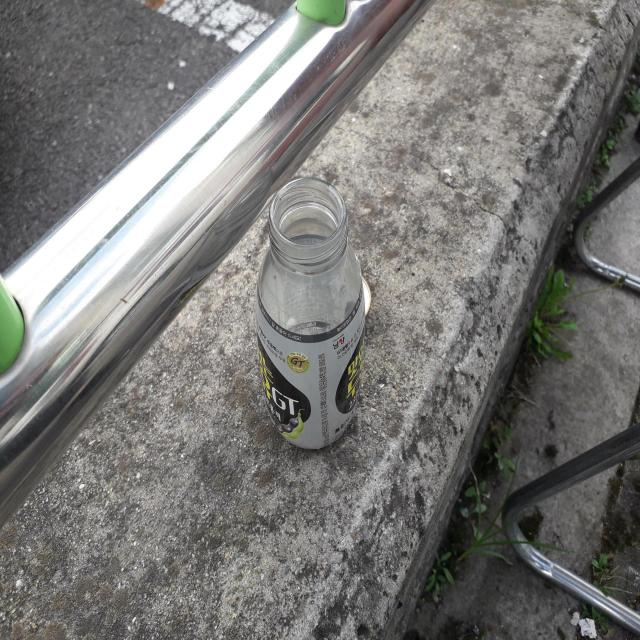glass: (256, 177, 366, 449)
